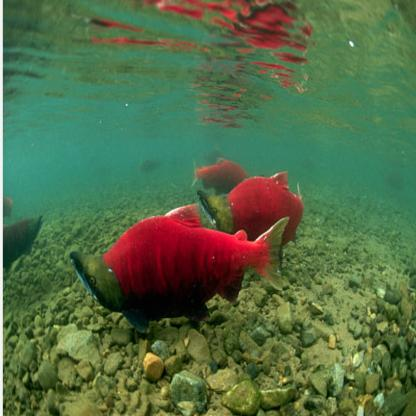sockeye: (67, 206, 274, 340), (202, 172, 305, 242), (191, 141, 249, 193)
